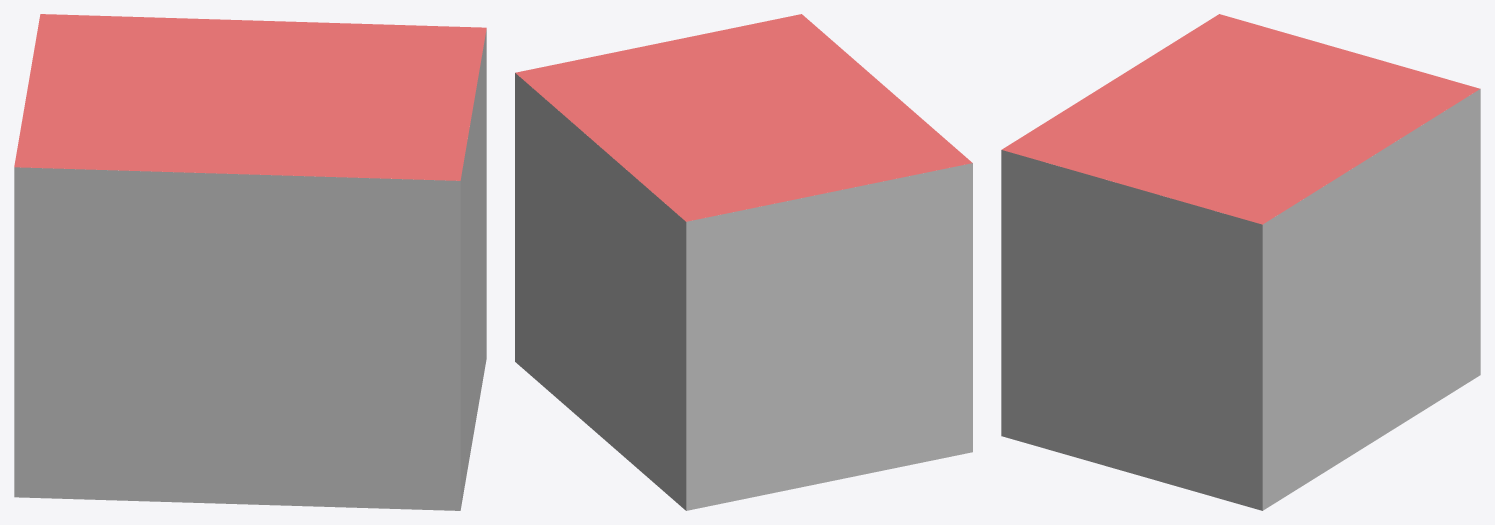
Rendered from ID_a8bfa0e9-a294-4a14-ac33-0c6e7838e029.gltf.
3 renders of one model, left to right at view 1: azimuth 30°, elevation 25°; view 2: azimuth 150°, elevation 25°; view 3: azimuth 270°, elevation 25°, orthographic. The views are drawn at different scales.
Parts seen in each view (by area): view 1: Z_UP; view 2: Z_UP; view 3: Z_UP.
Boxes of the visible parts, left/top/right/bottom form: Z_UP: left=14, top=14, right=486, bottom=510; Z_UP: left=515, top=14, right=972, bottom=510; Z_UP: left=1001, top=14, right=1480, bottom=510.
Size of the model in its own units: 20.54 by 13.02 by 19.74.
